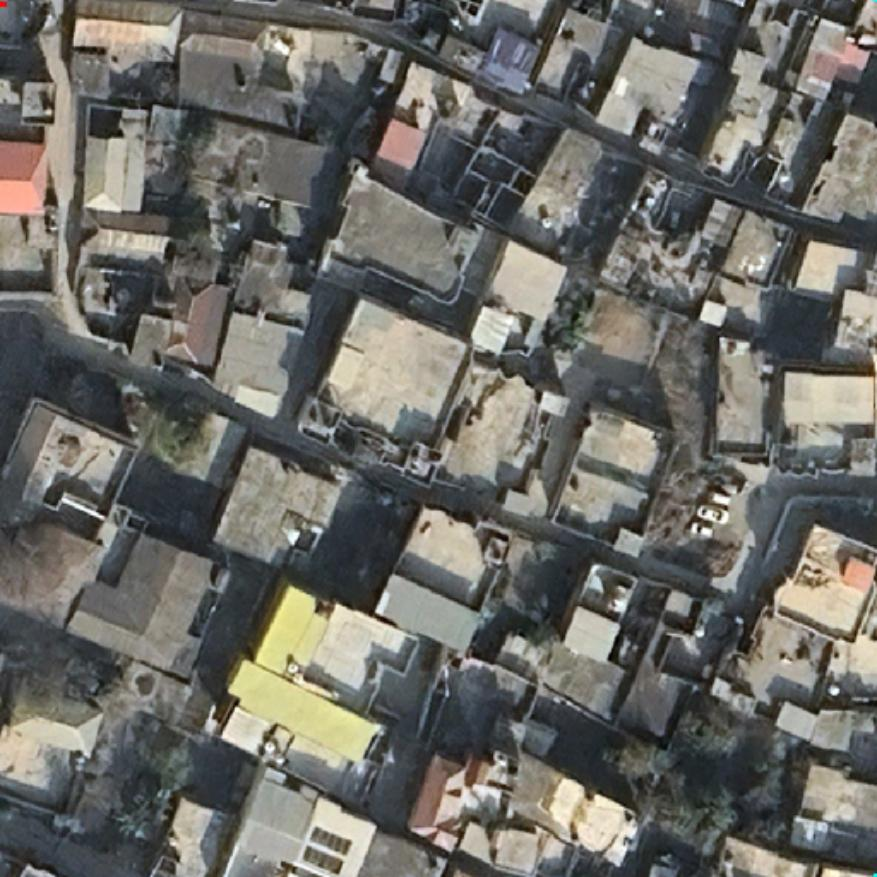Solarpanel: (310, 822, 356, 859), (301, 842, 347, 875)
